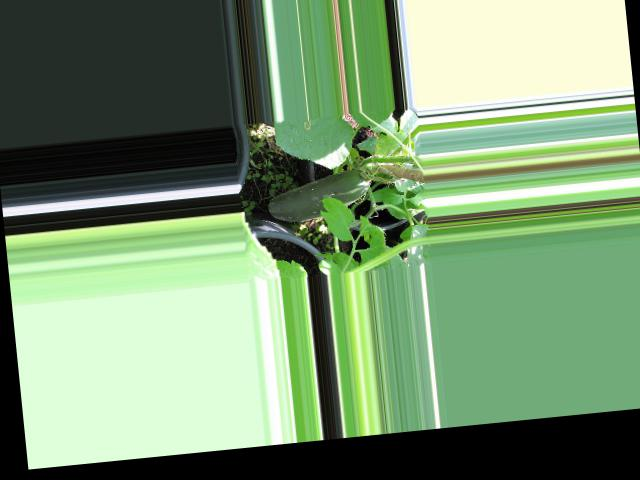cucumber: (265, 167, 373, 224)
